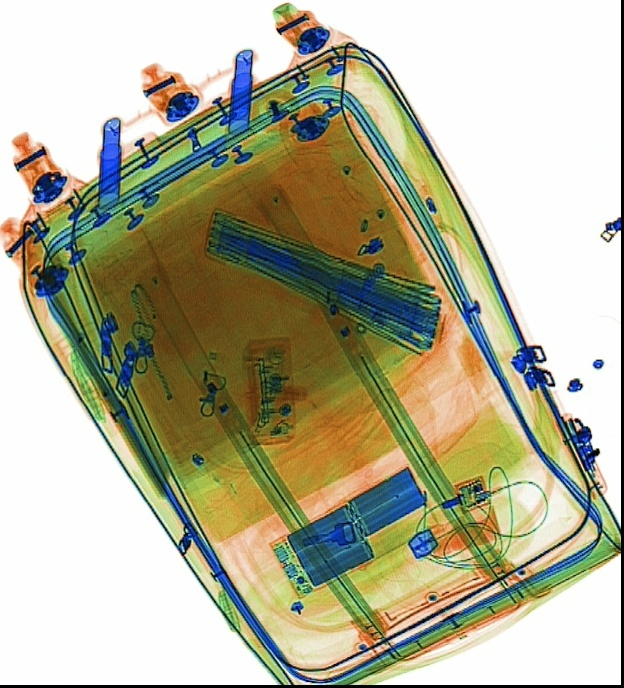powerbank: (266, 462, 441, 600)
